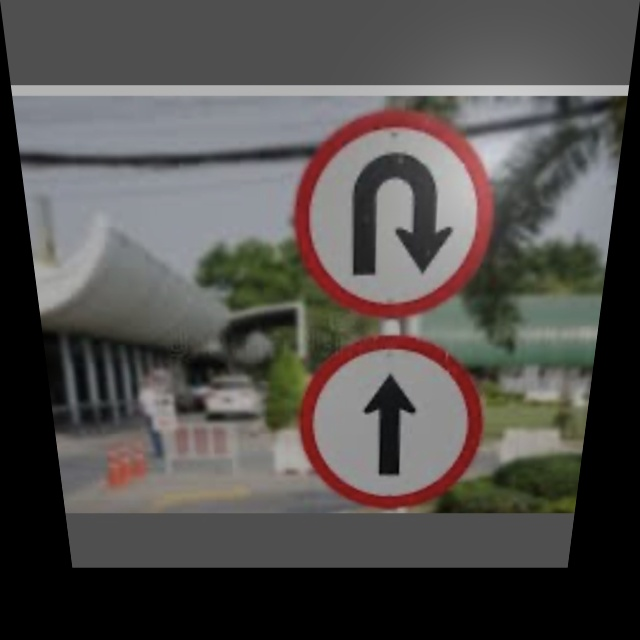U_Turn_Ahead: (297, 113, 502, 307)
